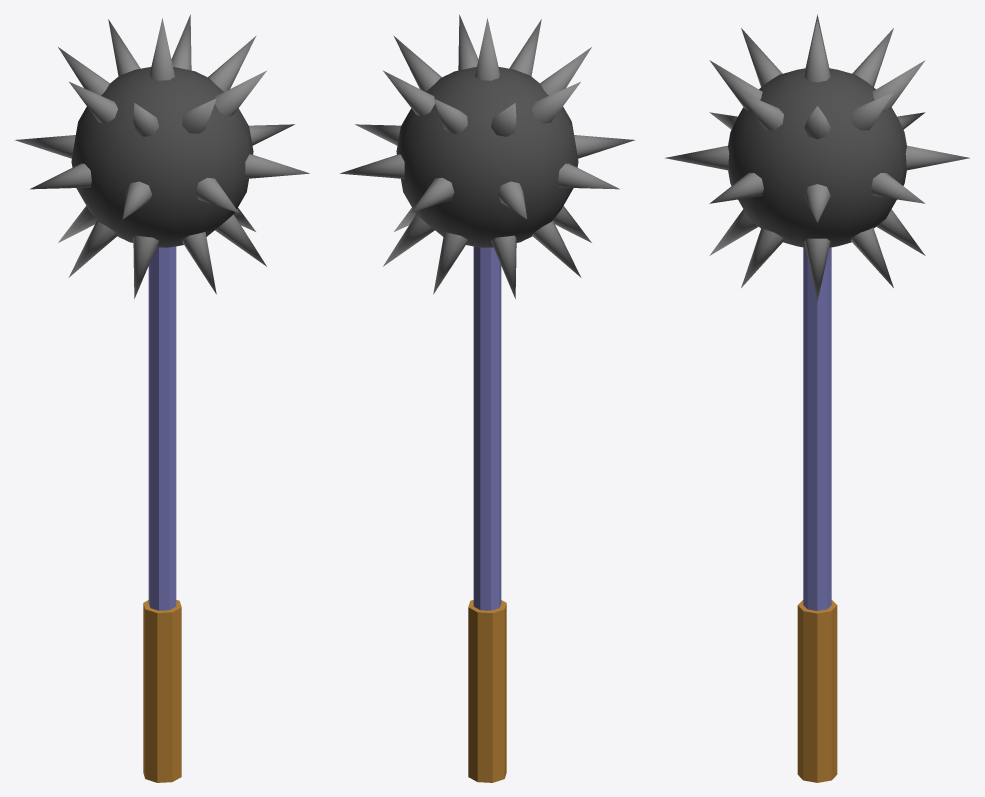
Rendered from MACE.fbx.
3 renders of one model, left to right at view 1: azimuth 30°, elevation 25°; view 2: azimuth 150°, elevation 25°; view 3: azimuth 270°, elevation 25°, orthographic.
Parts seen in each view (by area): view 1: Sphere, Cylinder.001, Cylinder; view 2: Sphere, Cylinder.001, Cylinder; view 3: Sphere, Cylinder.001, Cylinder.
Part boxes in pixels (x1,y1,x2,y2): Sphere: (14, 14, 309, 298); Cylinder.001: (148, 246, 176, 610); Cylinder: (143, 600, 181, 782); Sphere: (340, 14, 635, 298); Cylinder.001: (473, 246, 501, 610); Cylinder: (468, 600, 506, 782); Sphere: (665, 14, 969, 301); Cylinder.001: (803, 247, 831, 610); Cylinder: (797, 600, 837, 782).
Size of the model in its own units: 40.43 by 110 by 40.43.
